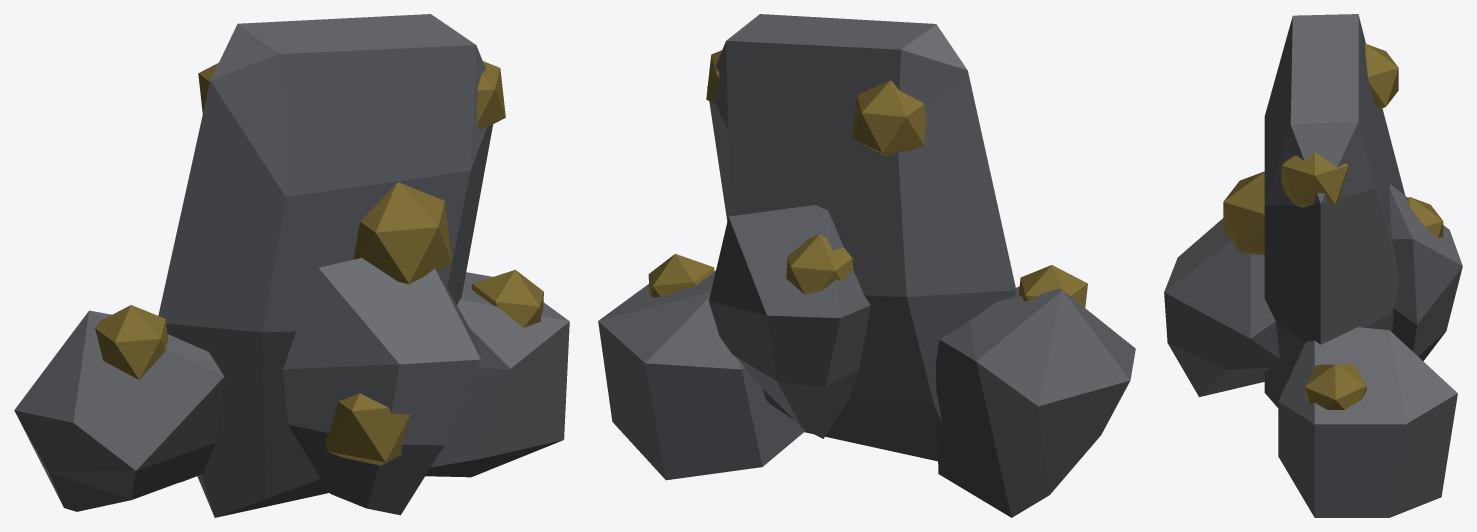
File: Gold Ore.fbx
3 views of the same model, side by side, from view 1: azimuth 30°, elevation 25°; view 2: azimuth 150°, elevation 25°; view 3: azimuth 270°, elevation 25° (orthographic). The views are drawn at different scales.
Parts seen in each view (by area): view 1: Cube.006; view 2: Cube.006; view 3: Cube.006.
Part boxes in pixels (x1,y1,x2,y2): Cube.006: (14,14,569,517); Cube.006: (598,14,1135,517); Cube.006: (1164,14,1462,517).
Size of the model in its own units: 89.04 by 76.52 by 51.81.
